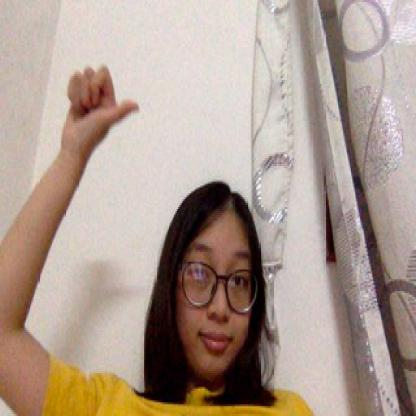left: (61, 67, 143, 160)
